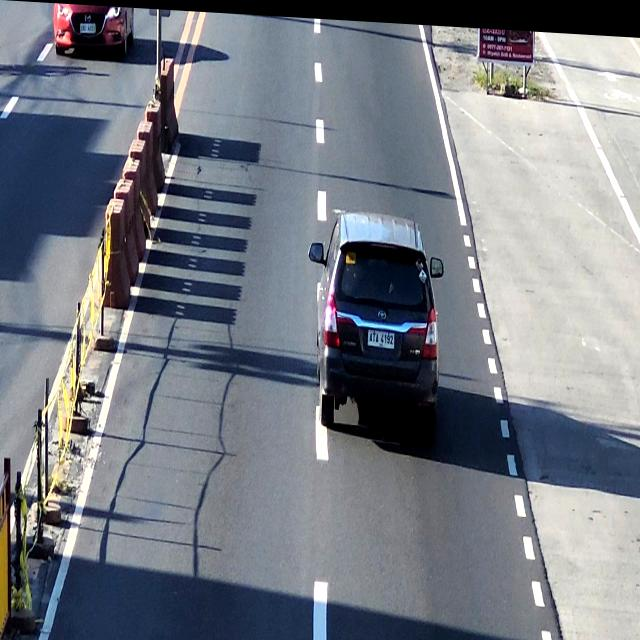Car: (316, 209, 442, 440)
License-Plate: (367, 324, 395, 349)
